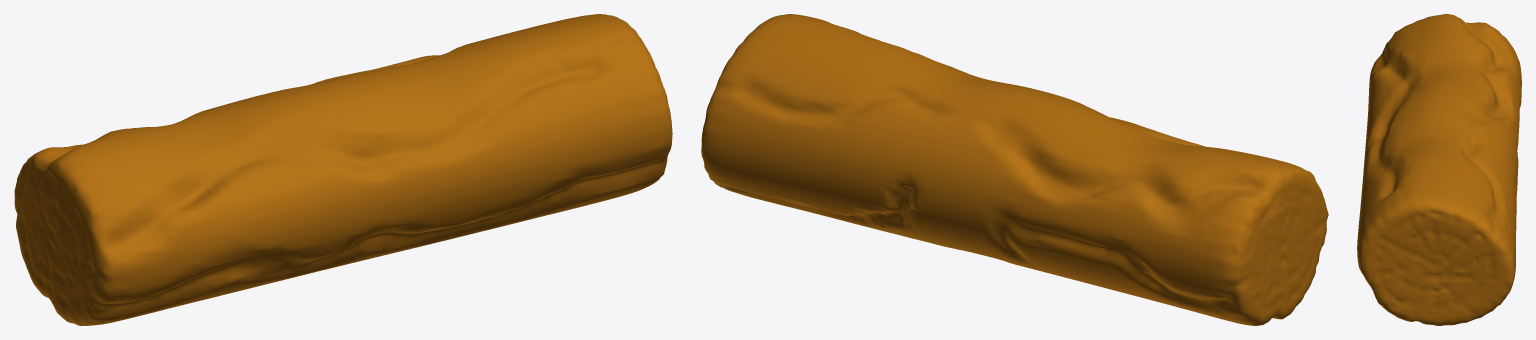
Rendered from marshmallowLog.glb.
3 views of the same model, side by side, from view 1: azimuth 30°, elevation 25°; view 2: azimuth 150°, elevation 25°; view 3: azimuth 270°, elevation 25° (orthographic). The views are drawn at different scales.
Visible parts, largest first — view 1: Cylinder.001; view 2: Cylinder.001; view 3: Cylinder.001.
Boxes of the visible parts, <box> form: Cylinder.001: <box>14,14,672,325</box>; Cylinder.001: <box>701,14,1328,325</box>; Cylinder.001: <box>1357,14,1521,325</box>.
Size of the model in its own units: 6.95 by 2.04 by 2.32.
